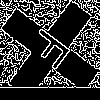F: (25, 25, 80, 78)
